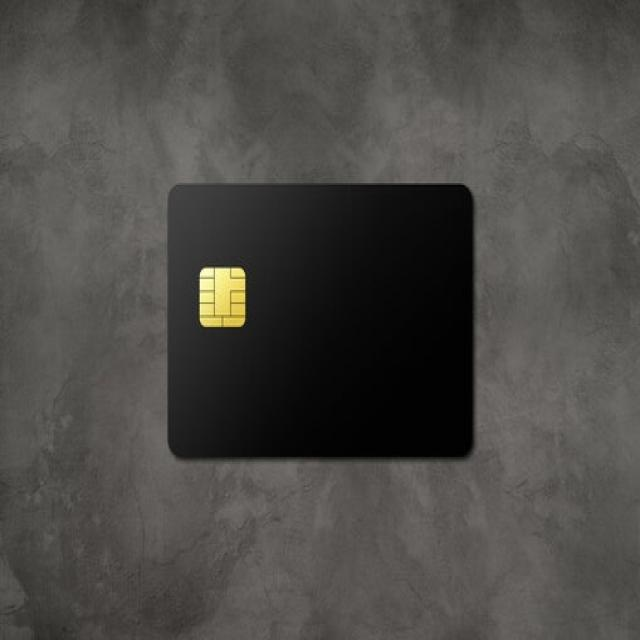payment_card: (165, 181, 475, 459)
